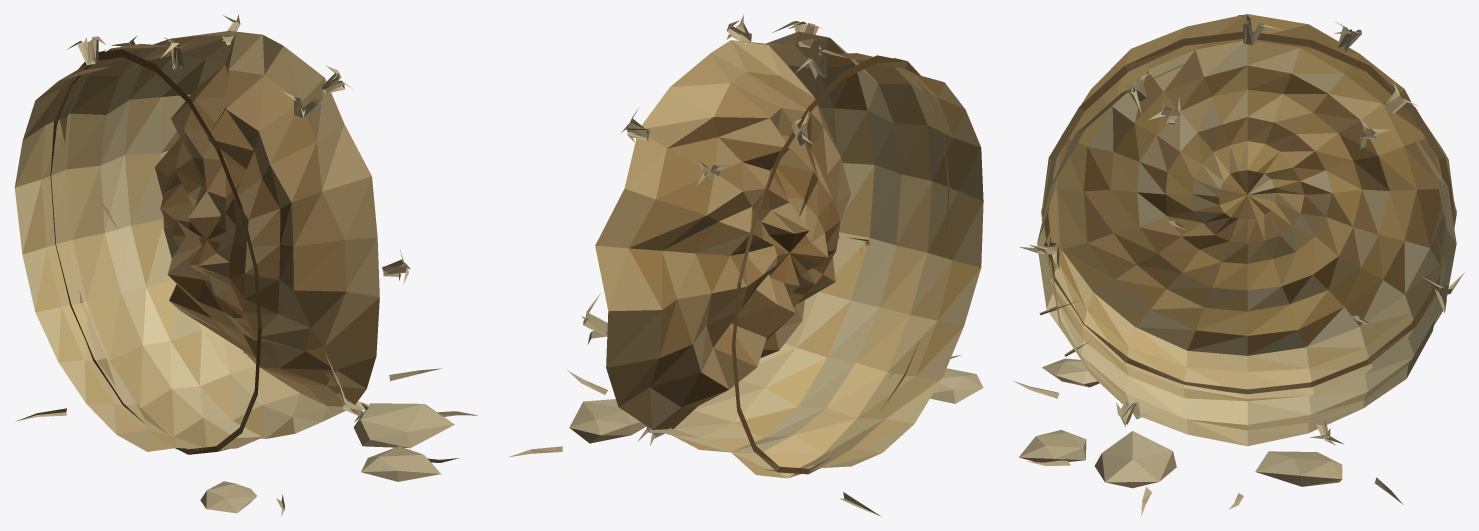
File: haystack-used.glb
3 views of the same model, side by side, from view 1: azimuth 30°, elevation 25°; view 2: azimuth 150°, elevation 25°; view 3: azimuth 270°, elevation 25° (orthographic). The views are drawn at different scales.
Parts seen in each view (by area): view 1: bale, loose_straw, twine; view 2: bale, loose_straw, twine; view 3: bale, loose_straw, twine.
Part boxes in pixels (x1,y1,x2,y2): bale: [14, 31, 379, 451]; loose_straw: [15, 14, 477, 516]; twine: [50, 49, 347, 454]; bale: [595, 31, 983, 478]; loose_straw: [508, 14, 983, 516]; twine: [731, 55, 949, 474]; bale: [1037, 14, 1456, 446]; loose_straw: [1013, 15, 1464, 516]; twine: [1039, 31, 1456, 394].
Bounding box in the file's own units: 1.44 × 1.47 × 1.58.
